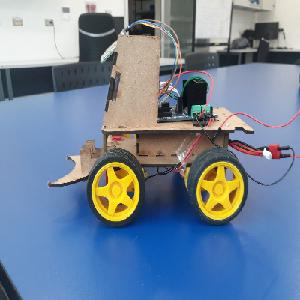Robot: (47, 16, 260, 229)
